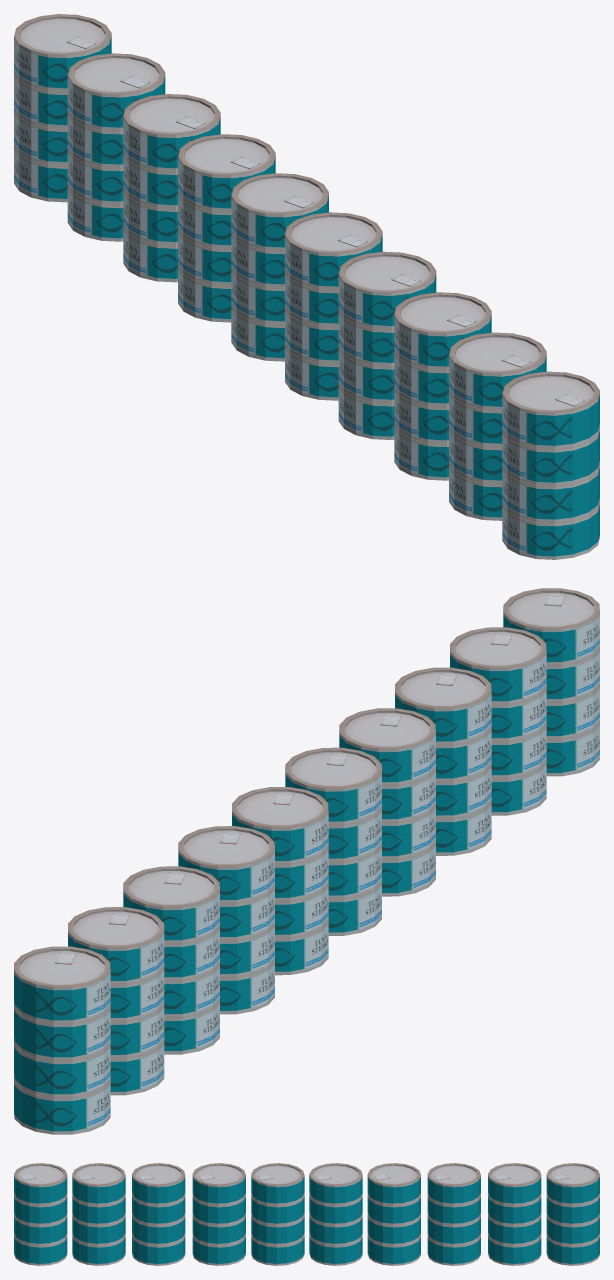
The model's file is tuna.fbx.
3 renders of one model, top to bottom at view 1: azimuth 30°, elevation 25°; view 2: azimuth 150°, elevation 25°; view 3: azimuth 270°, elevation 25°, orthographic. The views are drawn at different scales.
Visible parts, largest first — view 1: Beans.005; view 2: Beans.005; view 3: Beans.005.
Part boxes in pixels (x1,y1,x2,y2): Beans.005: (14,14,599,559); Beans.005: (14,588,599,1134); Beans.005: (14,1163,599,1265).
Size of the model in its own units: 32.13 by 53.35 by 353.
